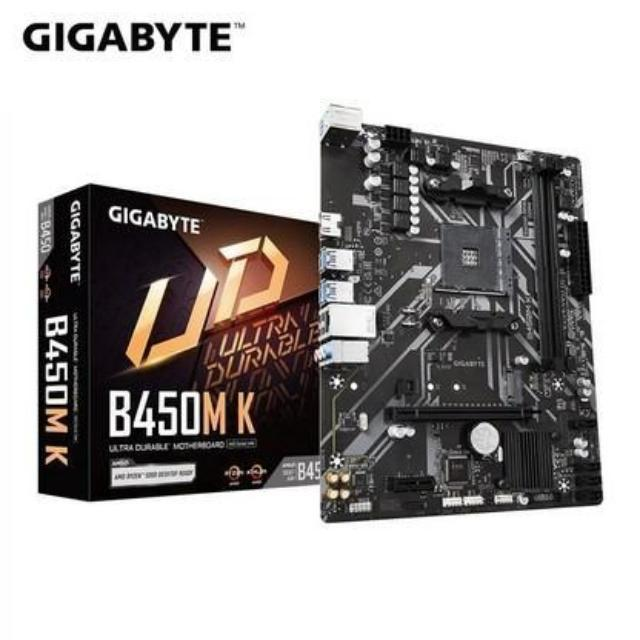Mainboard: (316, 104, 614, 526)
